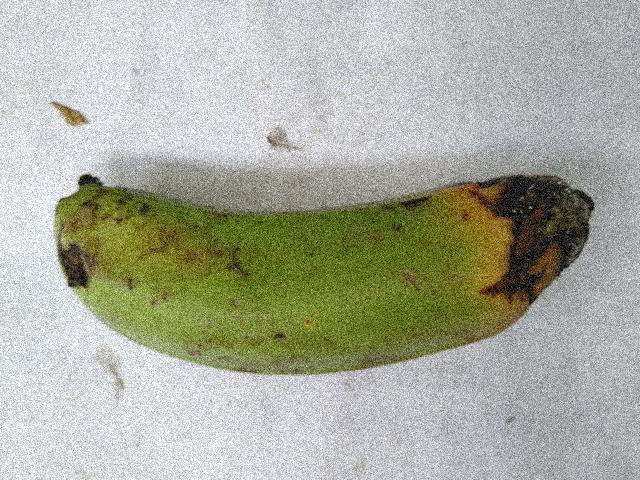unripe: (43, 159, 465, 395)
